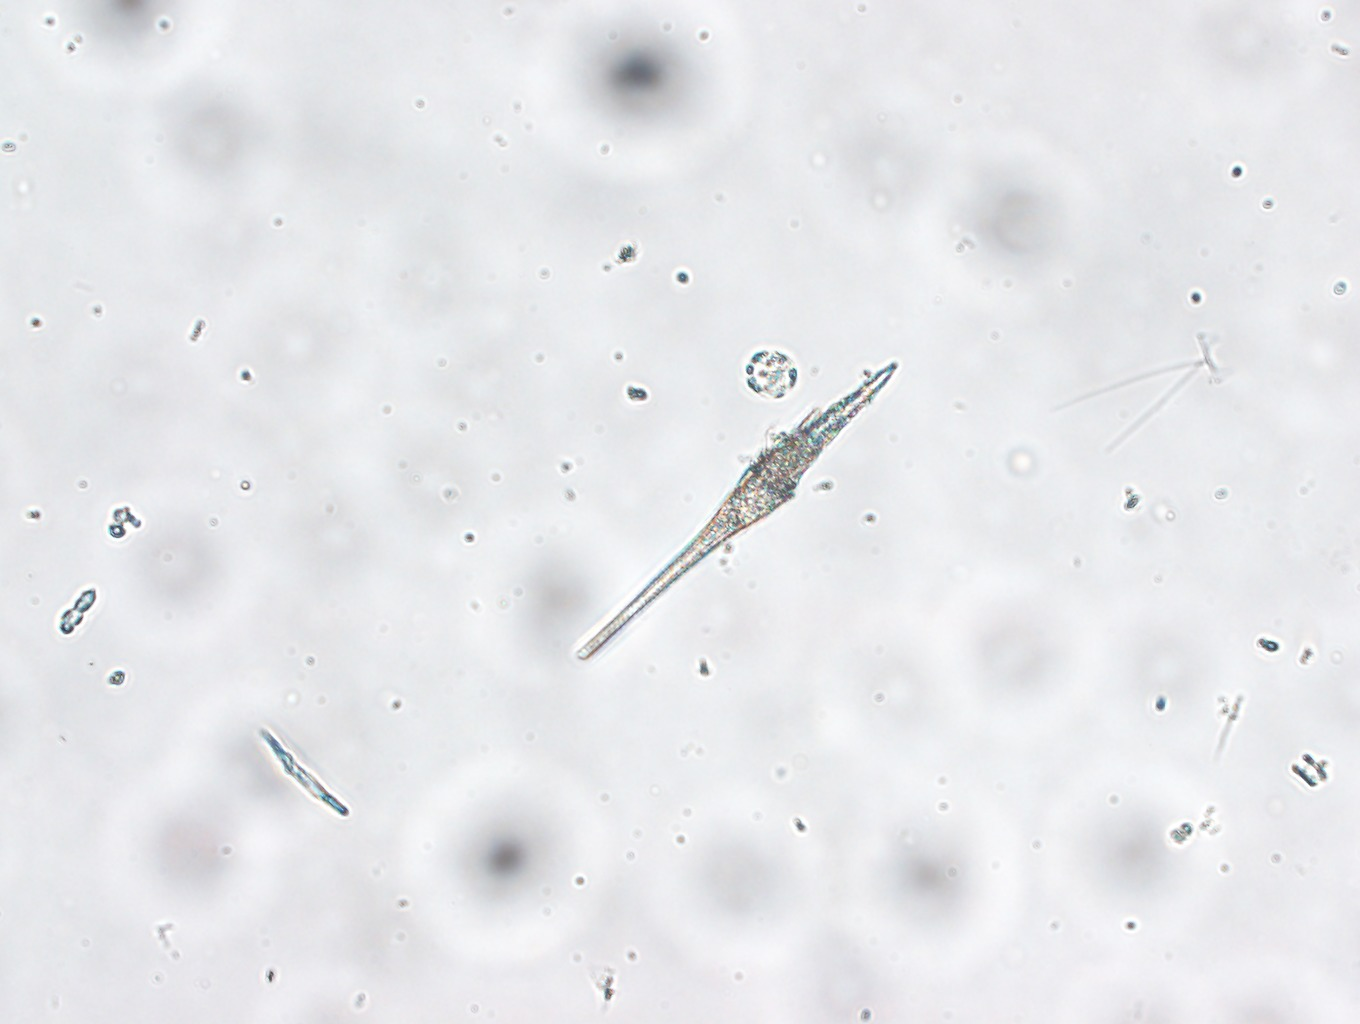ceratium fusus: (571, 362, 914, 659)
